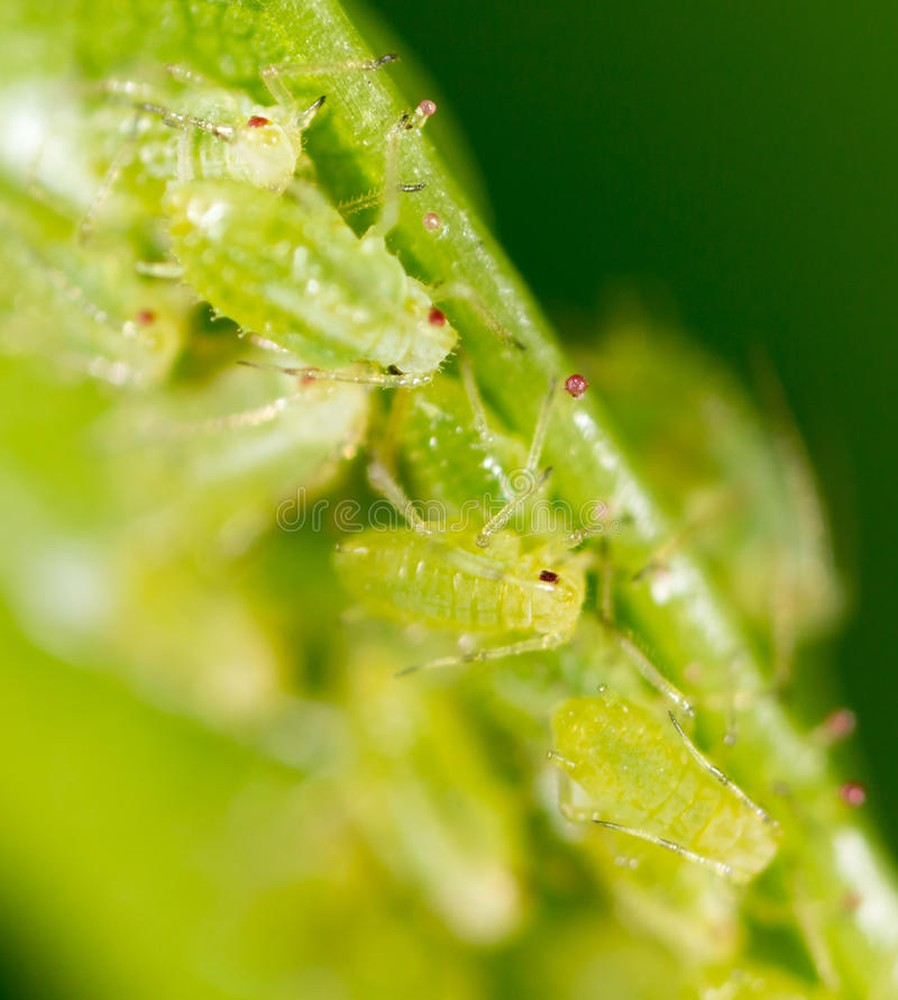Pulgon: (157, 151, 540, 452), (523, 666, 806, 933), (295, 481, 615, 697), (17, 58, 353, 231)
